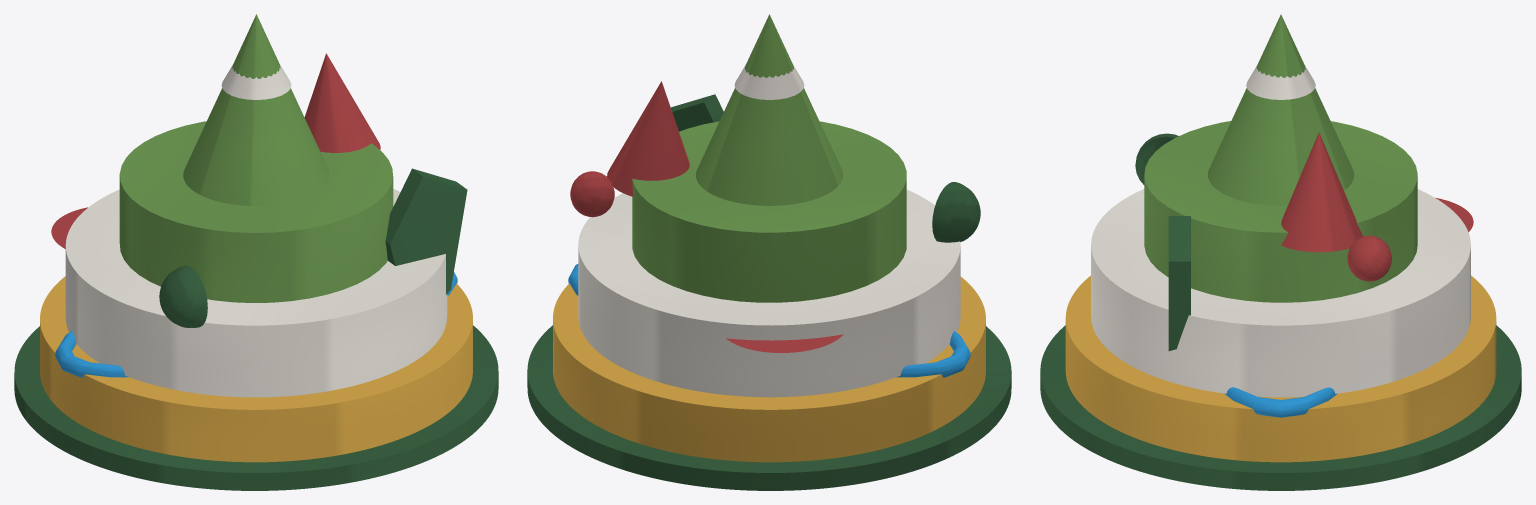
File: 0623_地貌图鉴_地球.glb
3 renders of one model, left to right at view 1: azimuth 30°, elevation 25°; view 2: azimuth 150°, elevation 25°; view 3: azimuth 270°, elevation 25°, orthographic.
Parts seen in each view (by area): view 1: card_0623; view 2: card_0623; view 3: card_0623.
Boxes of the visible parts, box(x1,y1,x2,y2) form: card_0623: box(14, 14, 498, 490); card_0623: box(527, 14, 1011, 490); card_0623: box(1040, 14, 1521, 490).
Bounding box in the file's own units: 1.17 × 1 × 1.16.
